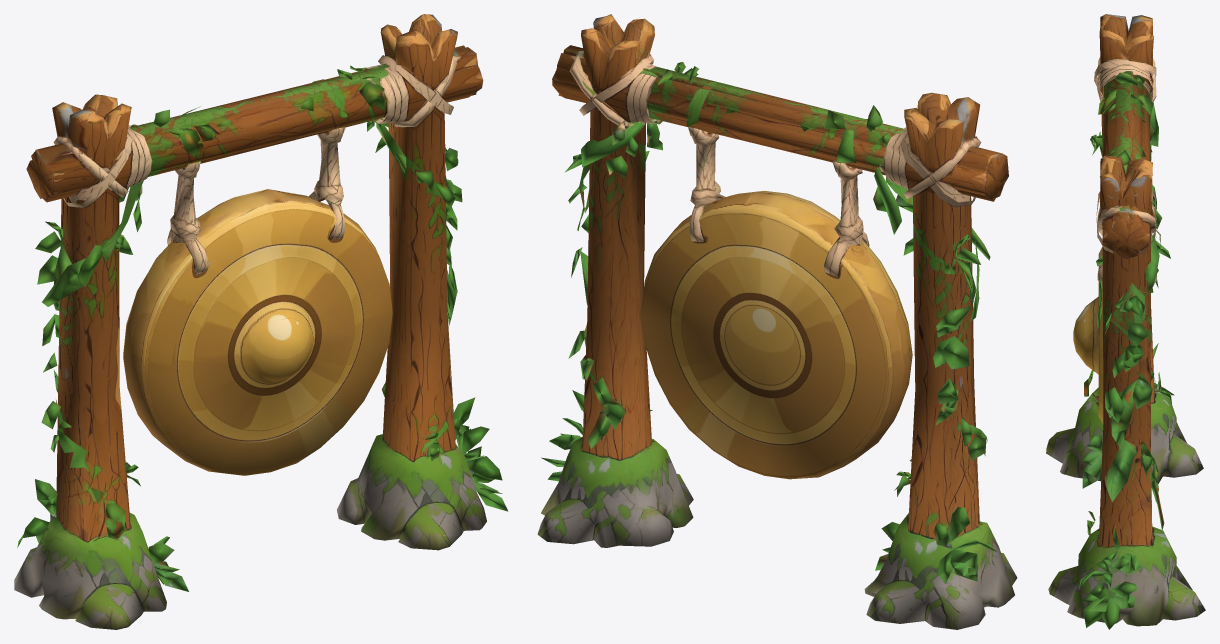
The model's file is Gong.fbx.
The picture shows the model from 3 angles, left to right: view 1: azimuth 30°, elevation 25°; view 2: azimuth 150°, elevation 25°; view 3: azimuth 270°, elevation 25°; orthographic projection. The views are drawn at different scales.
Visible parts, largest first — view 1: Gong; view 2: Gong; view 3: Gong.
Boxes of the visible parts, left/top/right/bottom form: Gong: left=14, top=14, right=508, bottom=629; Gong: left=537, top=14, right=1017, bottom=629; Gong: left=1046, top=14, right=1205, bottom=629.
Size of the model in its own units: 2.55 by 2.6 by 0.8591.
Materials: 1 (1 with a texture image).
